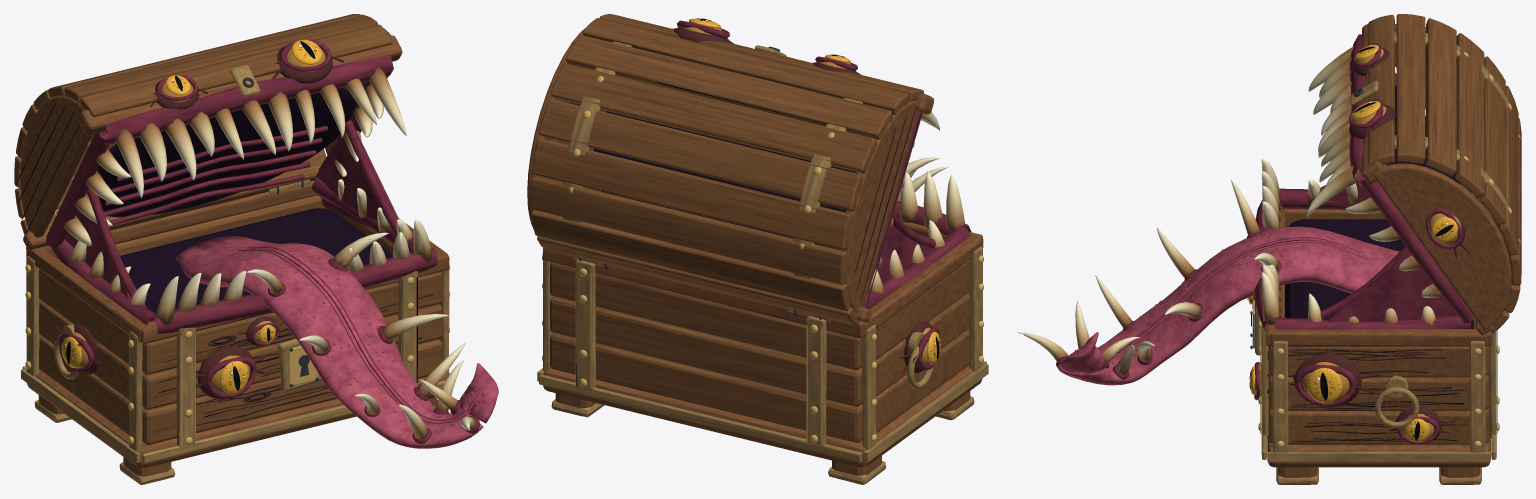
Rendered from mimico-respirando.glb.
3 views of the same model, side by side, from view 1: azimuth 30°, elevation 25°; view 2: azimuth 150°, elevation 25°; view 3: azimuth 270°, elevation 25° (orthographic). The views are drawn at different scales.
Visible parts, largest first — view 1: Mimico - Corpo, Mimico - Tampa, Mimico - Lingua, Mimico - Membranas; view 2: Mimico - Tampa, Mimico - Corpo, Mimico - Membranas, Mimico - Lingua; view 3: Mimico - Tampa, Mimico - Corpo, Mimico - Lingua, Mimico - Membranas.
Boxes of the visible parts, bbox=[...] form: Mimico - Corpo: bbox=[21, 177, 450, 484]; Mimico - Tampa: bbox=[14, 14, 406, 250]; Mimico - Lingua: bbox=[176, 232, 498, 448]; Mimico - Membranas: bbox=[64, 120, 408, 307]; Mimico - Tampa: bbox=[527, 14, 939, 325]; Mimico - Corpo: bbox=[537, 171, 988, 484]; Mimico - Membranas: bbox=[590, 188, 935, 282]; Mimico - Lingua: bbox=[897, 146, 948, 201]; Mimico - Tampa: bbox=[1306, 14, 1521, 335]; Mimico - Corpo: bbox=[1247, 158, 1499, 484]; Mimico - Lingua: bbox=[1017, 180, 1399, 385]; Mimico - Membranas: bbox=[1305, 182, 1470, 322].
Bounding box in the file's own units: 1.35 × 1.35 × 1.8.
11 materials, 11 textured.
